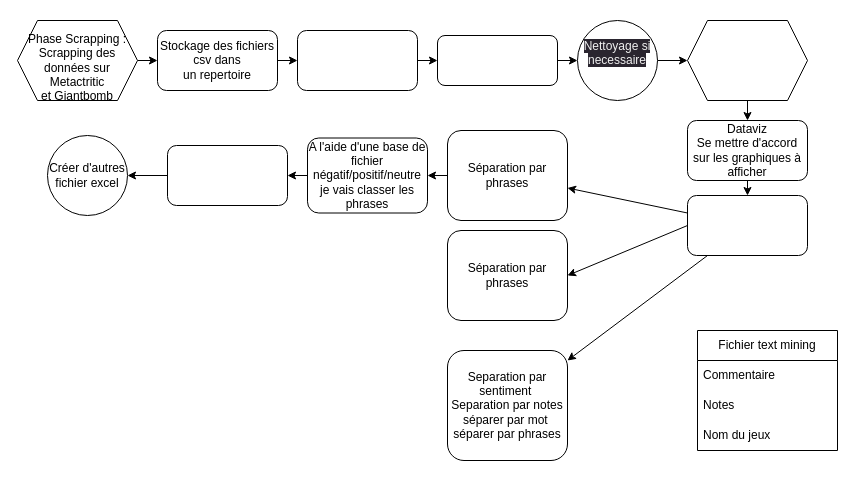
This 855x478 diagram has some shape labels left out. Each missing label, with the centre of its shape:
"Concaténation des diverses sources" goes at [497,60].
"Phase de text mining" goes at [747,60].
"Recupération des fichiers & Nettoyage des données" goes at [357,60].
"Regrouper par caractéristiques" goes at [227,175].
"Séparation du jeux de donnés par jeux" goes at [747,225].
